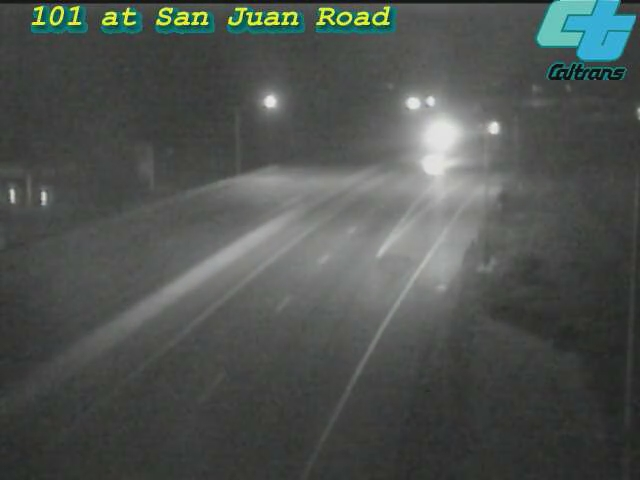vehicle: (407, 109, 457, 159), (468, 103, 518, 153), (415, 135, 465, 185)
